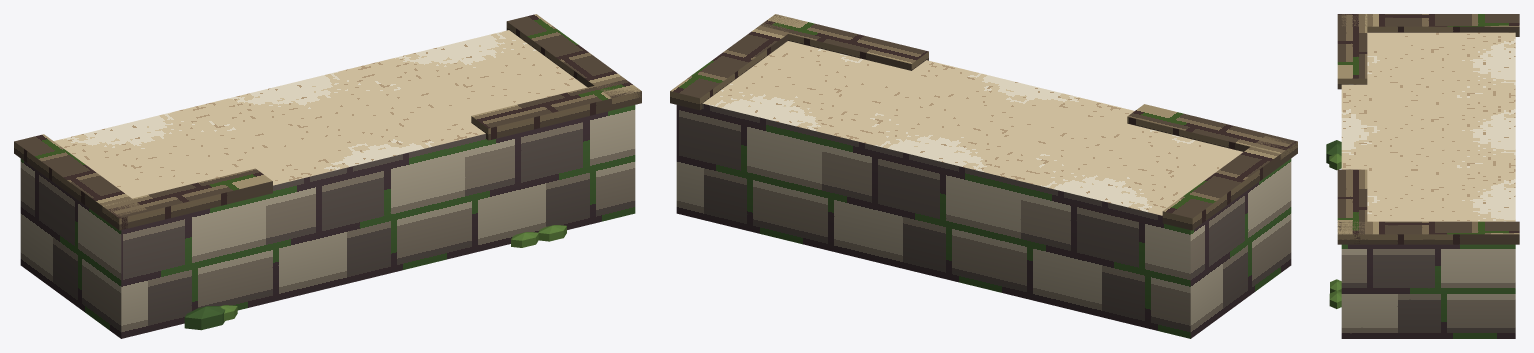
Rendered from scene_chapel_ledge.glb.
3 renders of one model, left to right at view 1: azimuth 30°, elevation 25°; view 2: azimuth 150°, elevation 25°; view 3: azimuth 270°, elevation 25°, orthographic. The views are drawn at different scales.
Parts seen in each view (by area): view 1: scene_chapel_ledge; view 2: scene_chapel_ledge; view 3: scene_chapel_ledge.
Boxes of the visible parts, left/top/right/bottom form: scene_chapel_ledge: left=14, top=14, right=641, bottom=338; scene_chapel_ledge: left=670, top=14, right=1297, bottom=338; scene_chapel_ledge: left=1326, top=14, right=1519, bottom=338.
Bounding box in the file's own units: 6.3 × 1.51 × 2.34.
Materials: 3 (2 with a texture image).
